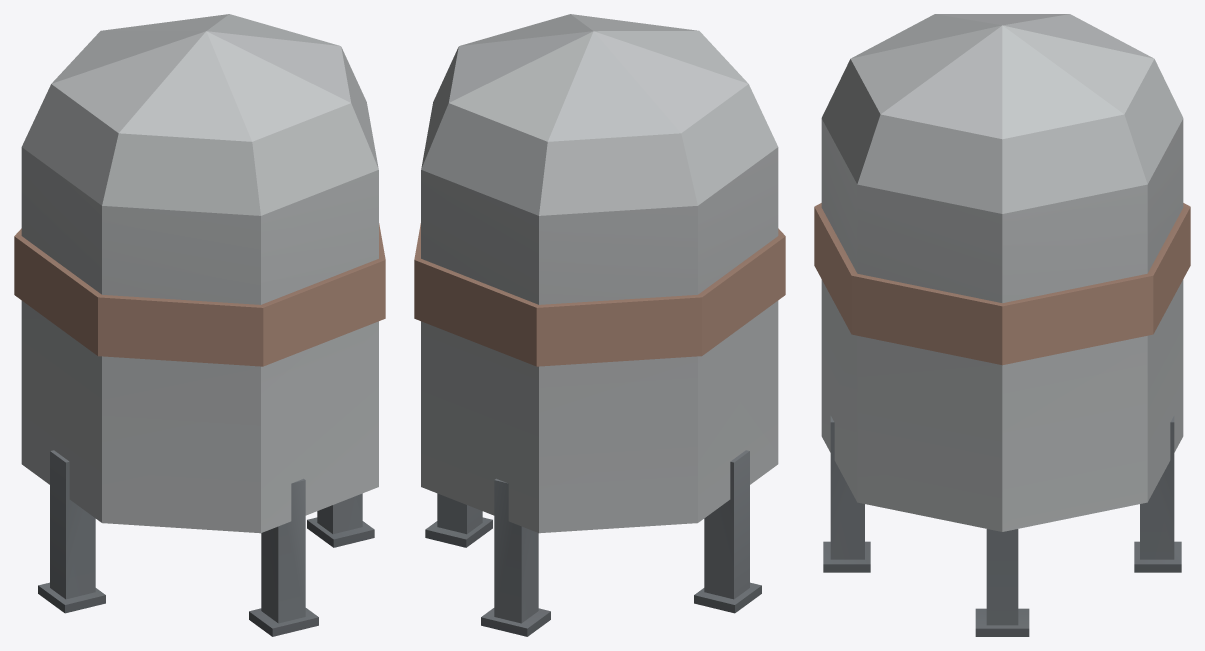
File: tank.lod2.glb
3 renders of one model, left to right at view 1: azimuth 30°, elevation 25°; view 2: azimuth 150°, elevation 25°; view 3: azimuth 270°, elevation 25°, orthographic.
Size of the model in its own units: 4.01 by 6.37 by 4.06.
